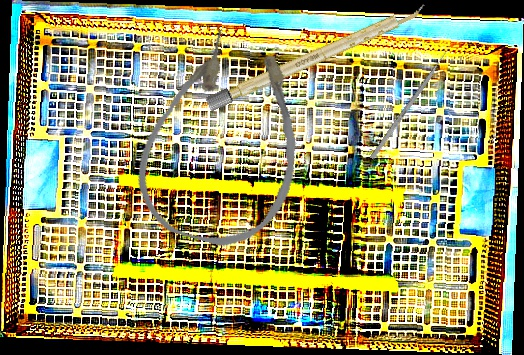Cannula: (123, 18, 327, 260)
Pusher: (369, 43, 454, 160)
Scalpel Handle: (204, 1, 429, 112)
